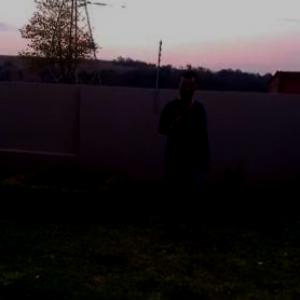takeoff-hand: (163, 106, 190, 134)
